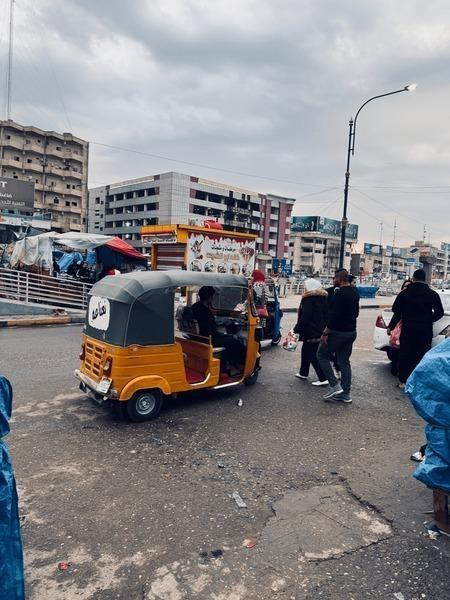keke: (68, 254, 264, 420)
